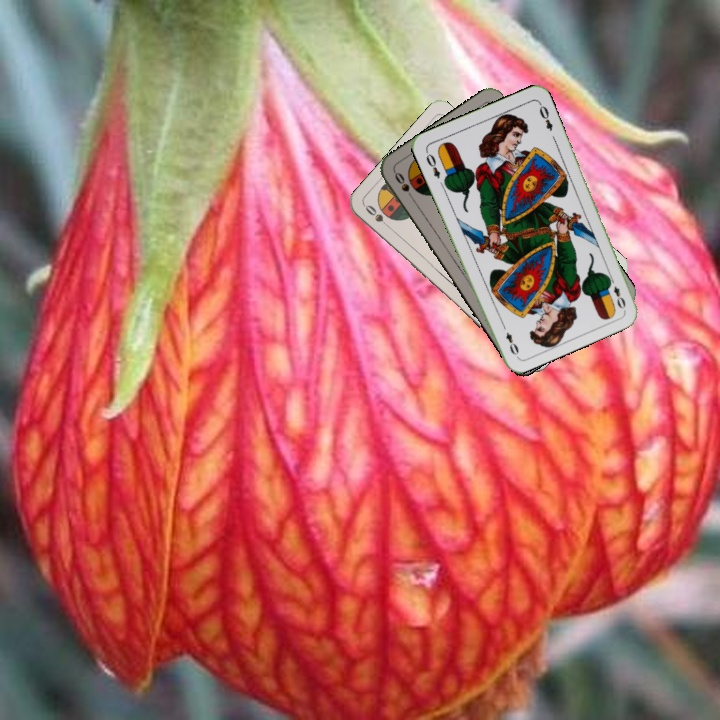EO: (605, 273, 628, 312), (422, 147, 443, 181)
SO: (361, 201, 394, 232), (390, 168, 418, 204)
